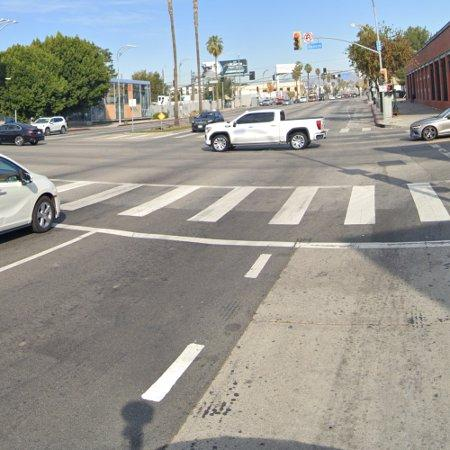crosswalks: (57, 180, 450, 229)
